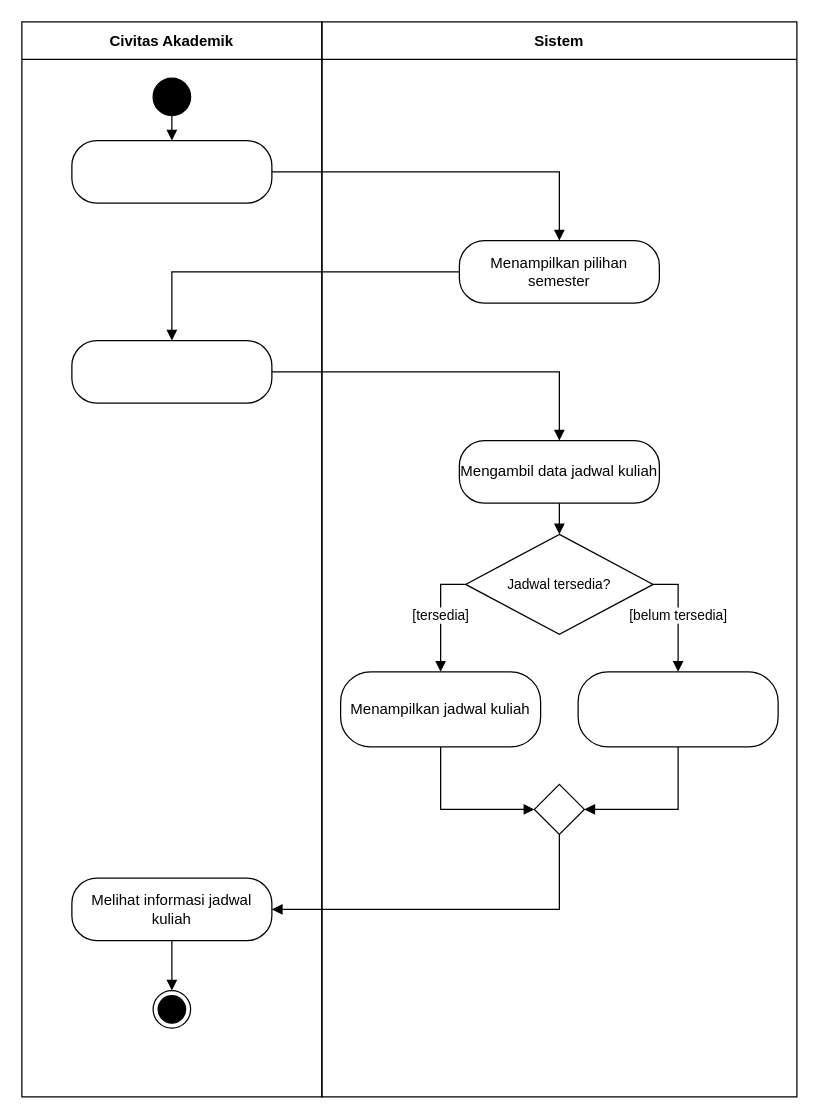
The diagram is 819 pixels wide and 1119 high, and some of its shapes have lost their labels. Here are the shapes that lost their labels. From the top down, the centre of each, then its label:
At point 171,171: "Memilih menu Jadwal Kuliah".
At point 171,371: "Memilih semester".
At point 677,709: "Menampilkan pesan jadwal belum tersedia".
